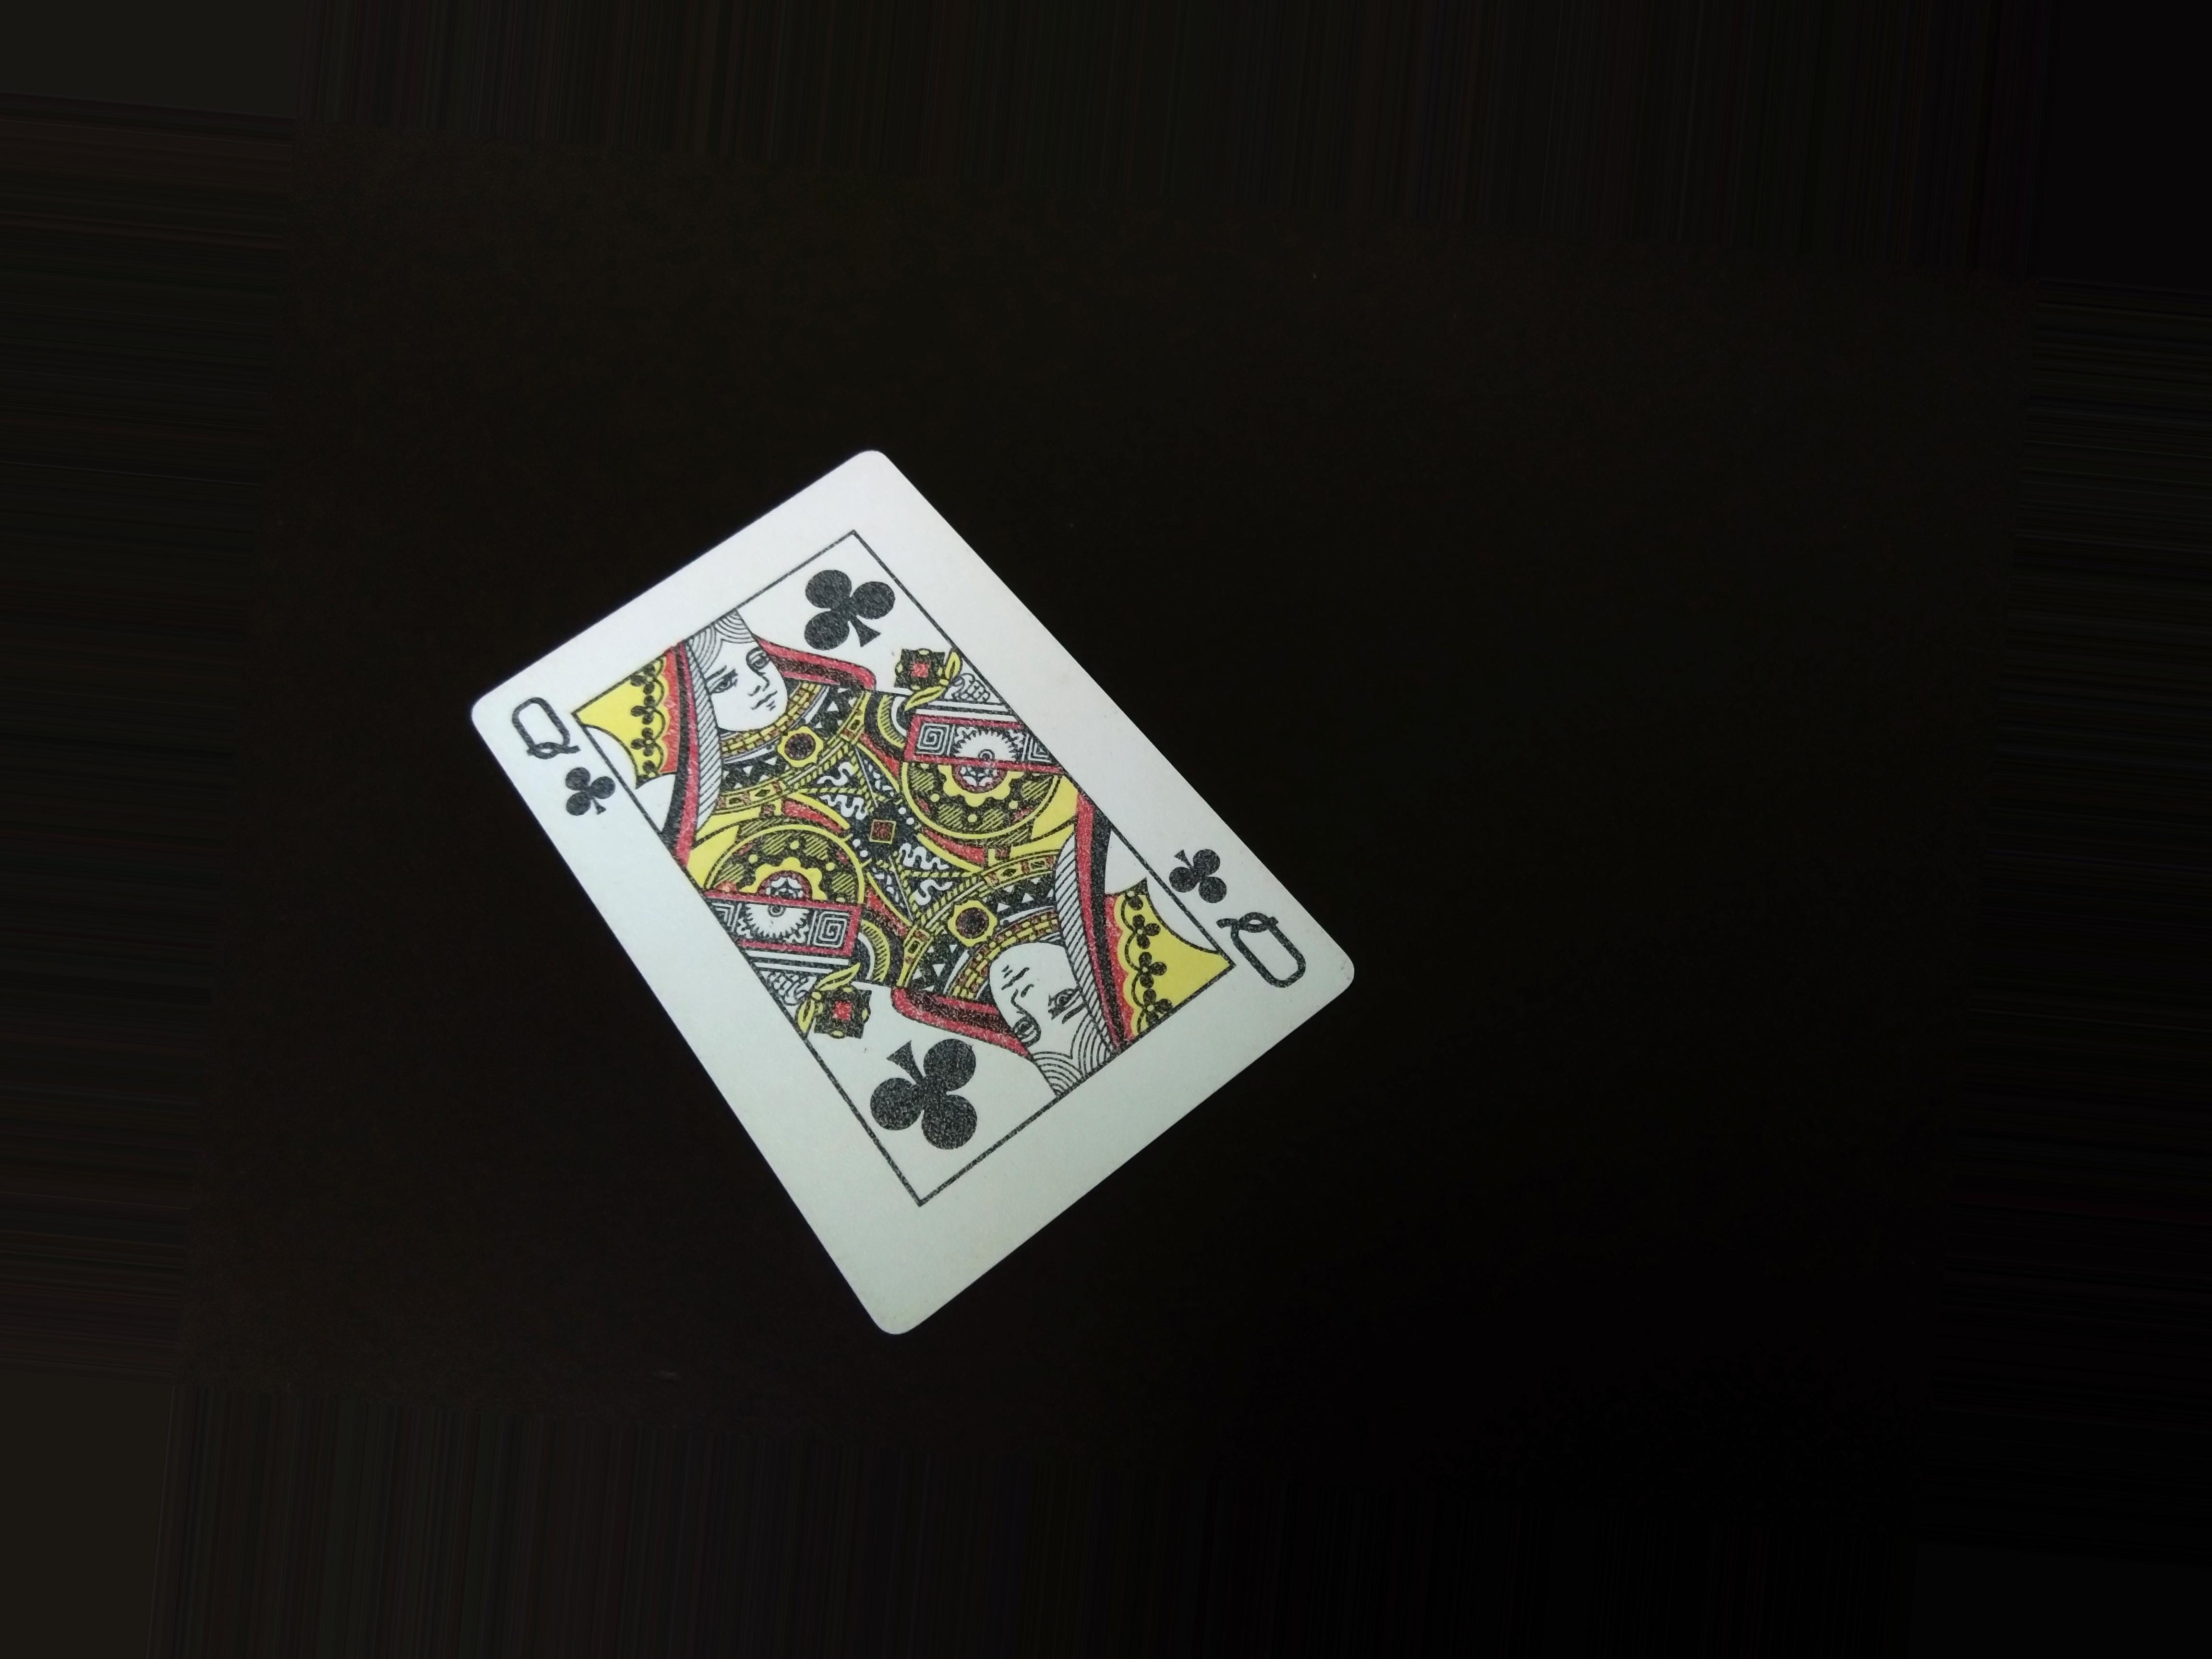QC: (502, 666, 615, 835)
